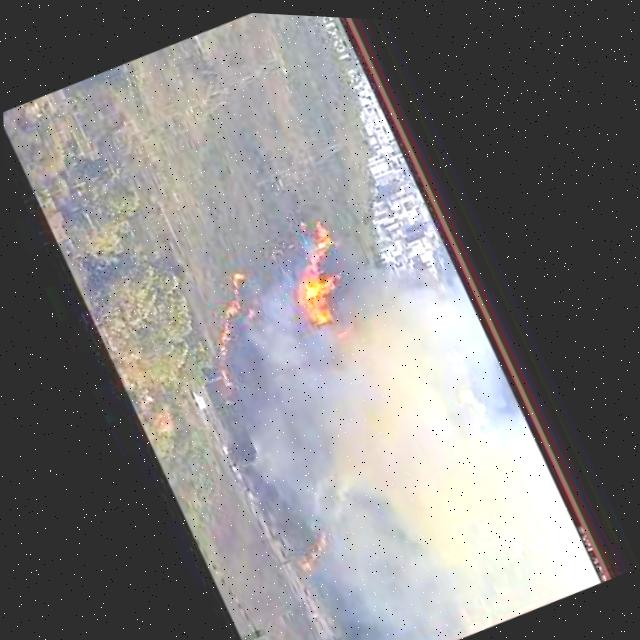Fire: (259, 203, 378, 343)
Smoke: (264, 260, 606, 640)
